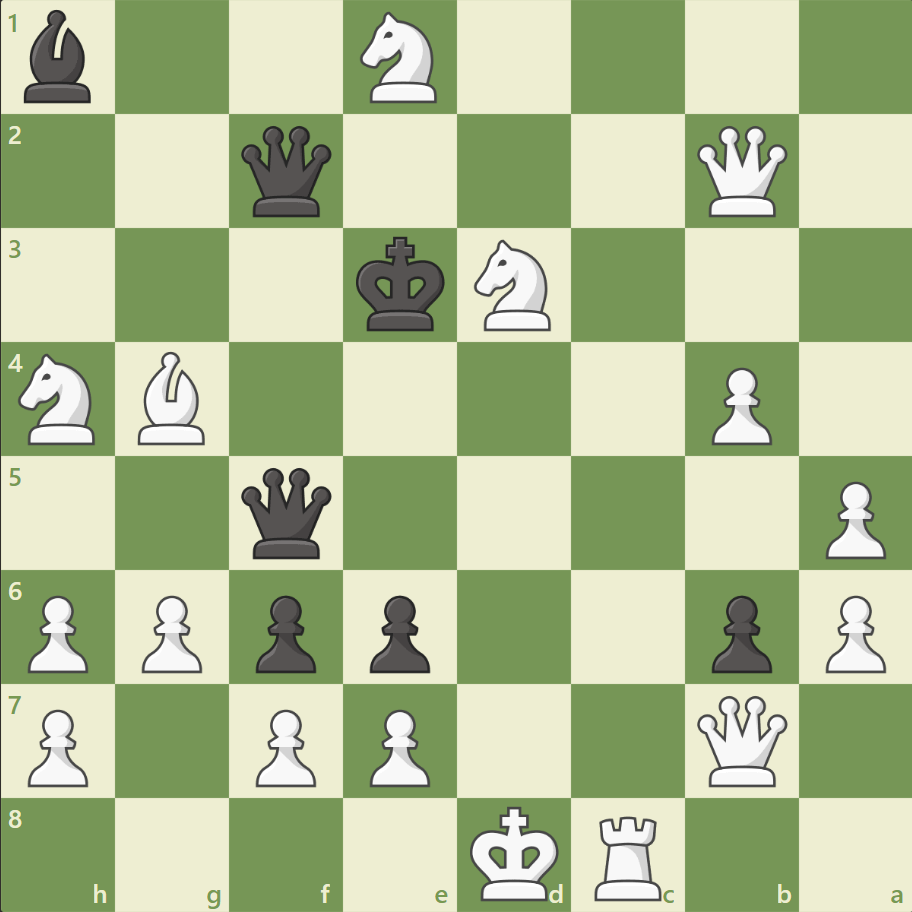B: (131, 347, 215, 449)
K: (465, 798, 565, 906)
N: (351, 7, 449, 110), (465, 234, 562, 337), (11, 348, 108, 450)
P: (247, 700, 322, 791), (20, 700, 95, 791), (133, 586, 208, 677), (20, 586, 95, 677), (701, 359, 776, 450), (361, 700, 435, 791), (815, 586, 889, 677), (815, 473, 889, 564)
Q: (691, 122, 790, 222), (691, 690, 790, 789)
R: (587, 806, 670, 904)
b: (17, 6, 101, 109)
k: (351, 231, 451, 339)
p: (701, 586, 776, 677), (247, 586, 322, 677), (361, 586, 435, 677)
q: (237, 122, 336, 222), (237, 463, 336, 562)
